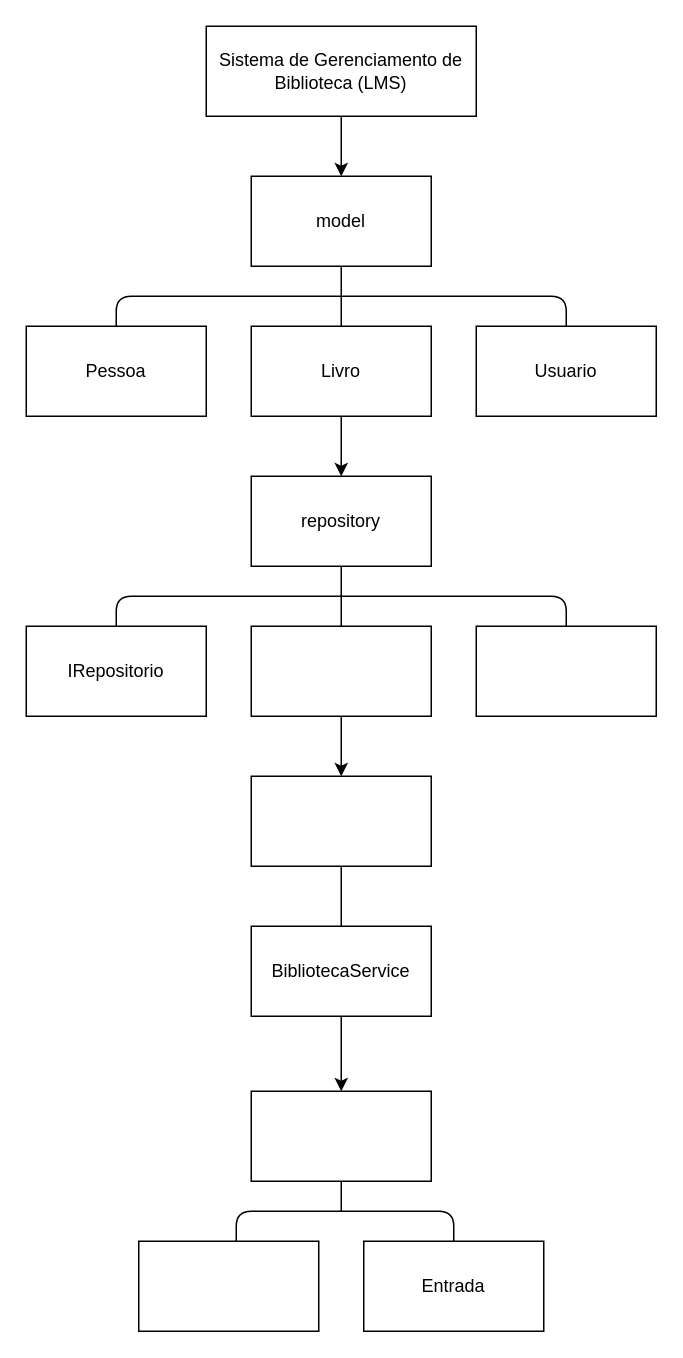
Image size: 683x1358. Some labels were removed from this diagram. The centre of each missing label's shape, as x and y in pixels:
ExcessaoLMS: the point at 228,1285
LivroRepositorio: the point at 340,670
service: the point at 340,820
UsuarioRepositorio: the point at 565,670
util: the point at 340,1135
